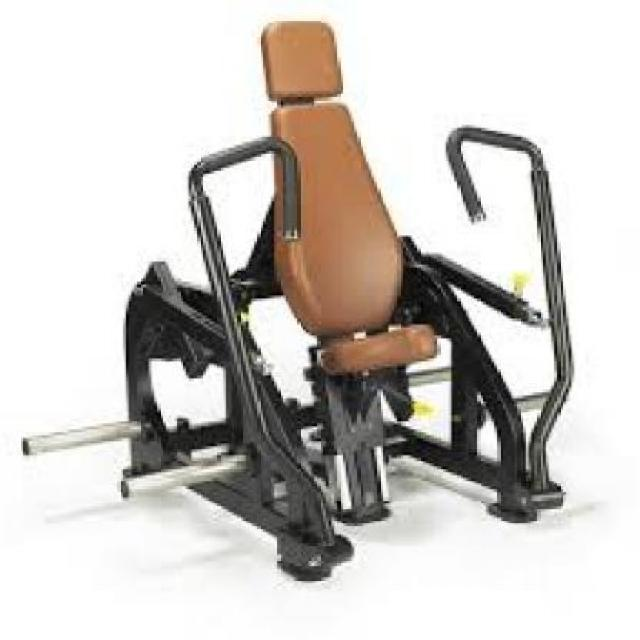Chest Press machine: (20, 14, 580, 588)
